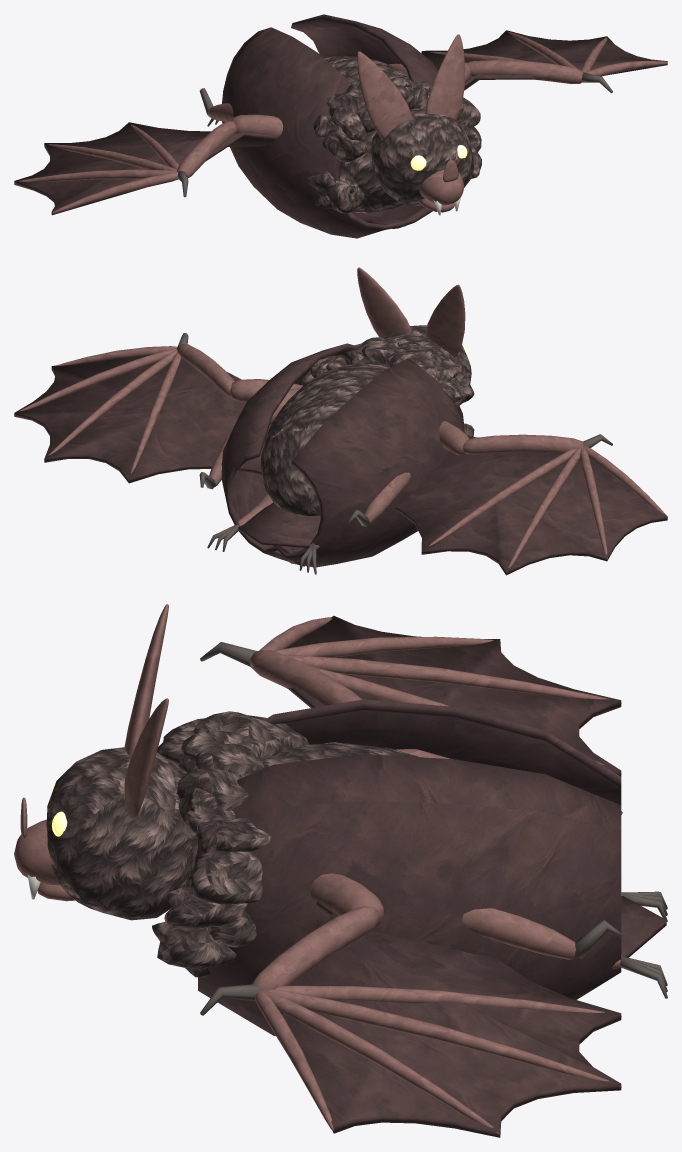
Rendered from cave_bat_v0.glb.
The picture shows the model from 3 angles, top to bottom: view 1: azimuth 30°, elevation 25°; view 2: azimuth 150°, elevation 25°; view 3: azimuth 270°, elevation 25°; orthographic projection. The views are drawn at different scales.
Parts seen in each view (by area): view 1: body, fold_l, wing_l, wing_r, fold_r; view 2: wing_l, wing_r, fold_l, body, fold_r; view 3: fold_r, wing_r, body, wing_l, fold_l.
Part boxes in pixels (x1,y1,x2,y2): body: (207,34,481,215); fold_l: (199,27,405,238); wing_l: (14,114,283,215); wing_r: (421,30,667,93); fold_r: (291,14,438,228); wing_l: (395,421,667,575); wing_r: (14,333,302,483); fold_l: (272,358,464,567); body: (207,267,474,574); fold_r: (199,343,361,566); fold_r: (198,754,622,1035); wing_r: (200,873,621,1137); body: (14,604,667,998); wing_l: (200,616,621,776); fold_l: (263,699,622,814).
Size of the model in its own units: 1.6 by 0.5634 by 0.8651.
6 materials, 3 textured.
